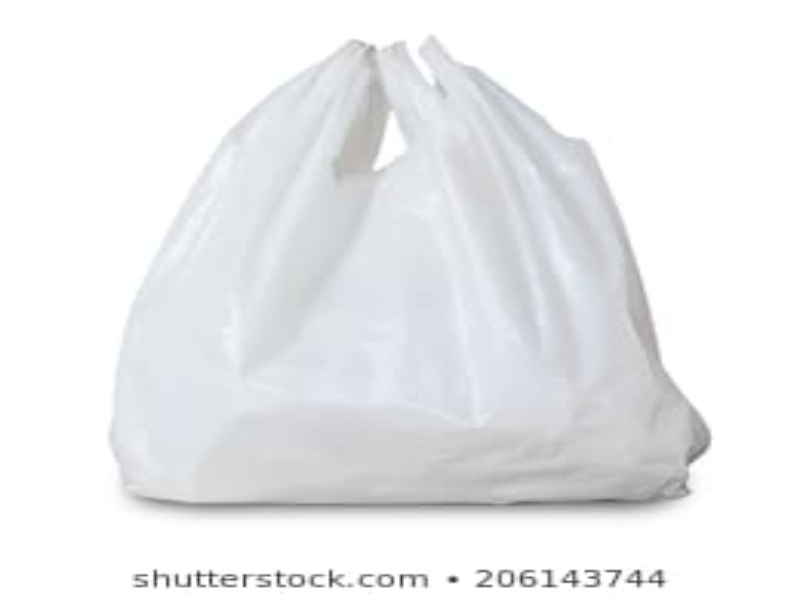plastic-bag: (106, 36, 718, 510)
